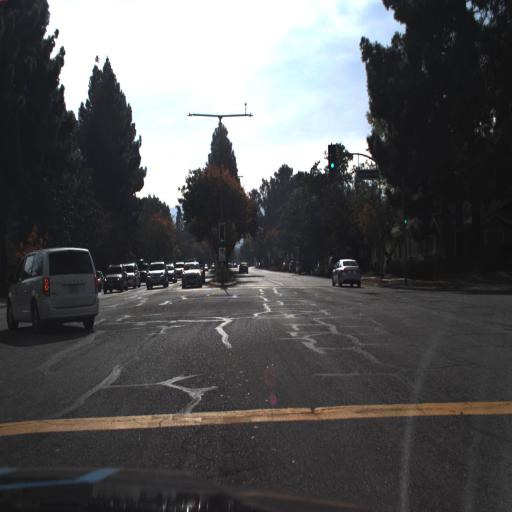car: (4, 245, 100, 335), (329, 253, 365, 294), (101, 263, 129, 294), (145, 259, 168, 291), (180, 262, 204, 291), (126, 259, 141, 290), (238, 259, 249, 277)
trafficLight-Green: (327, 144, 337, 170), (329, 148, 335, 170), (403, 212, 407, 229)
trafficLight-GreenLeft: (220, 223, 226, 245)
